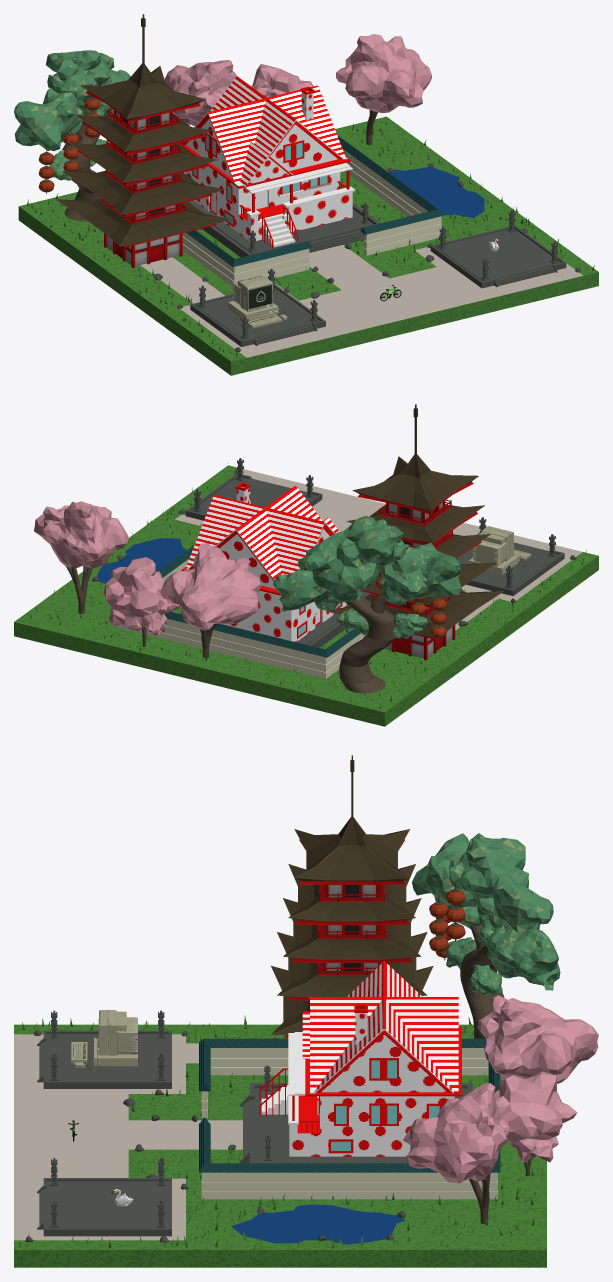
3 views of the same model, one above another, from view 1: azimuth 30°, elevation 25°; view 2: azimuth 150°, elevation 25°; view 3: azimuth 270°, elevation 25° (orthographic). The views are drawn at different scales.
Visible parts, largest first — view 1: Cube.005, Cube.196, OBJRANDOM_RETRO_PC; view 2: Cube.005, Cube.196, OBJRANDOM_RETRO_PC; view 3: Cube.005, Cube.196, OBJRANDOM_RETRO_PC.
Boxes of the visible parts, x1,y1,x2,y2 form: Cube.005: (14,14,598,375); Cube.196: (179,76,355,248); OBJRANDOM_RETRO_PC: (228,275,287,328); Cube.005: (14,404,598,726); Cube.196: (181,482,347,641); OBJRANDOM_RETRO_PC: (469,526,531,574); Cube.005: (14,755,598,1267); Cube.196: (259,961,461,1156); OBJRANDOM_RETRO_PC: (71,1010,137,1070).
Size of the model in its own units: 4528 by 2698 by 4389.
35 materials, 6 textured.
